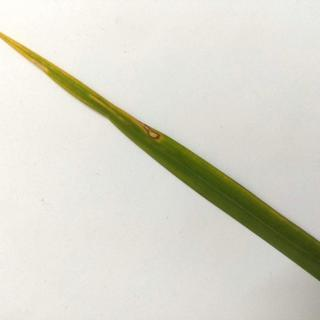Blast: (131, 111, 175, 156)
